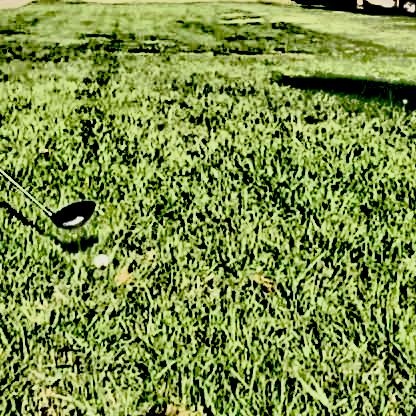golfball: (91, 249, 106, 264)
